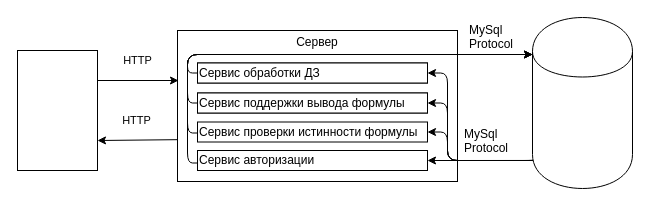
The diagram is 650 pixels wide and 206 high, and some of its shapes have lost their labels. Here are the shapes that lost their labels. From the top down, the centre of each, then its label:
At (57,110): "Клиент".
At (582,102): "БД".
